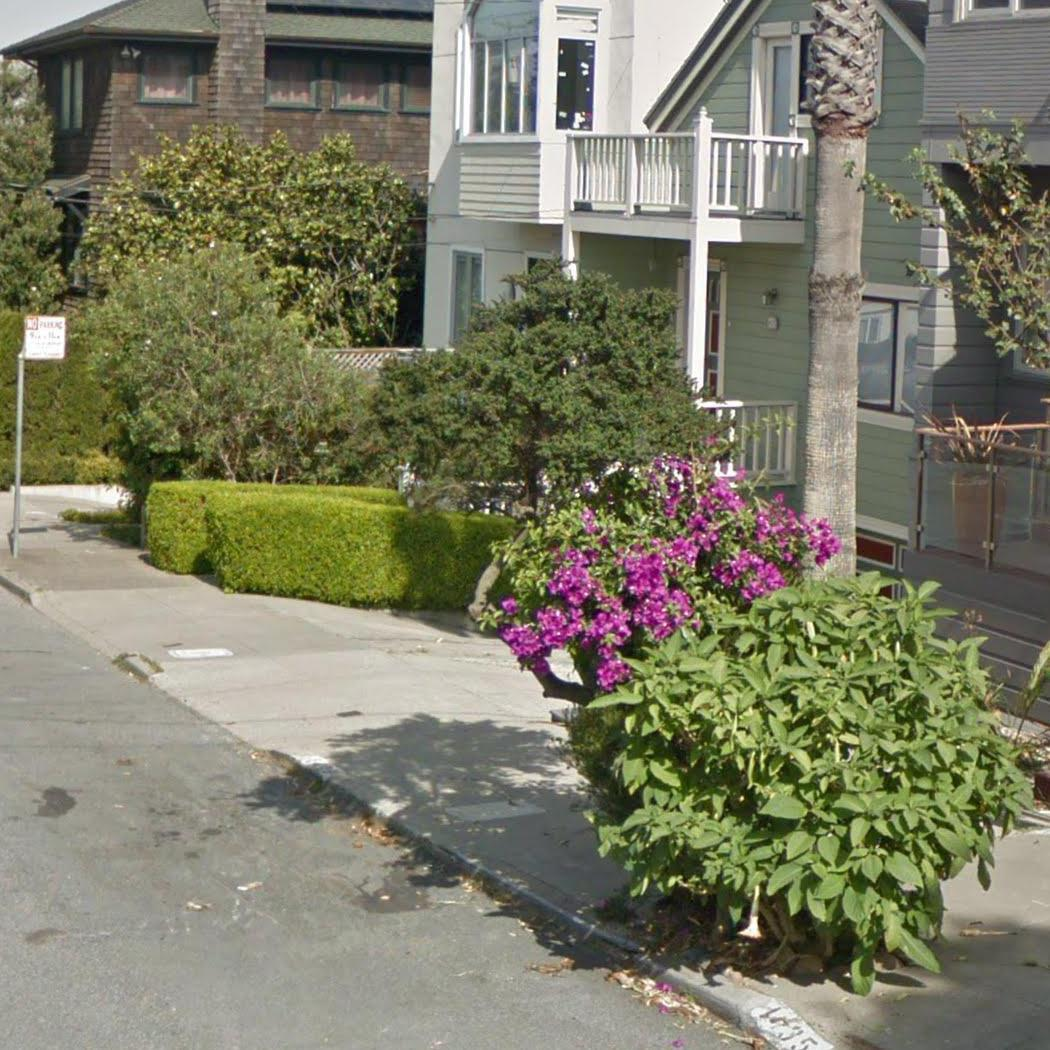No Parking: (22, 312, 70, 363)
